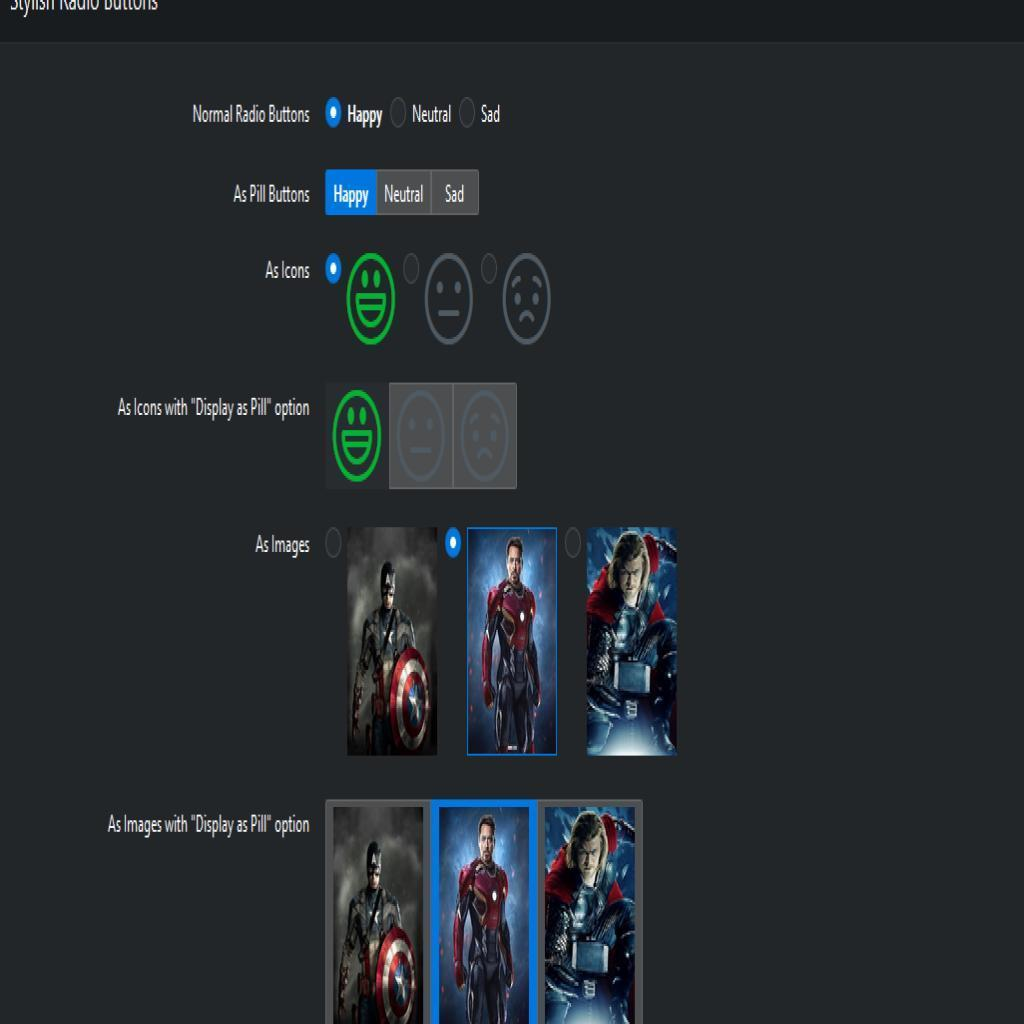radio: (455, 93, 480, 145), (388, 90, 413, 134), (322, 249, 345, 292), (562, 525, 587, 561), (323, 97, 344, 135), (326, 526, 347, 564), (405, 251, 422, 295), (483, 252, 501, 292), (447, 527, 462, 561)
